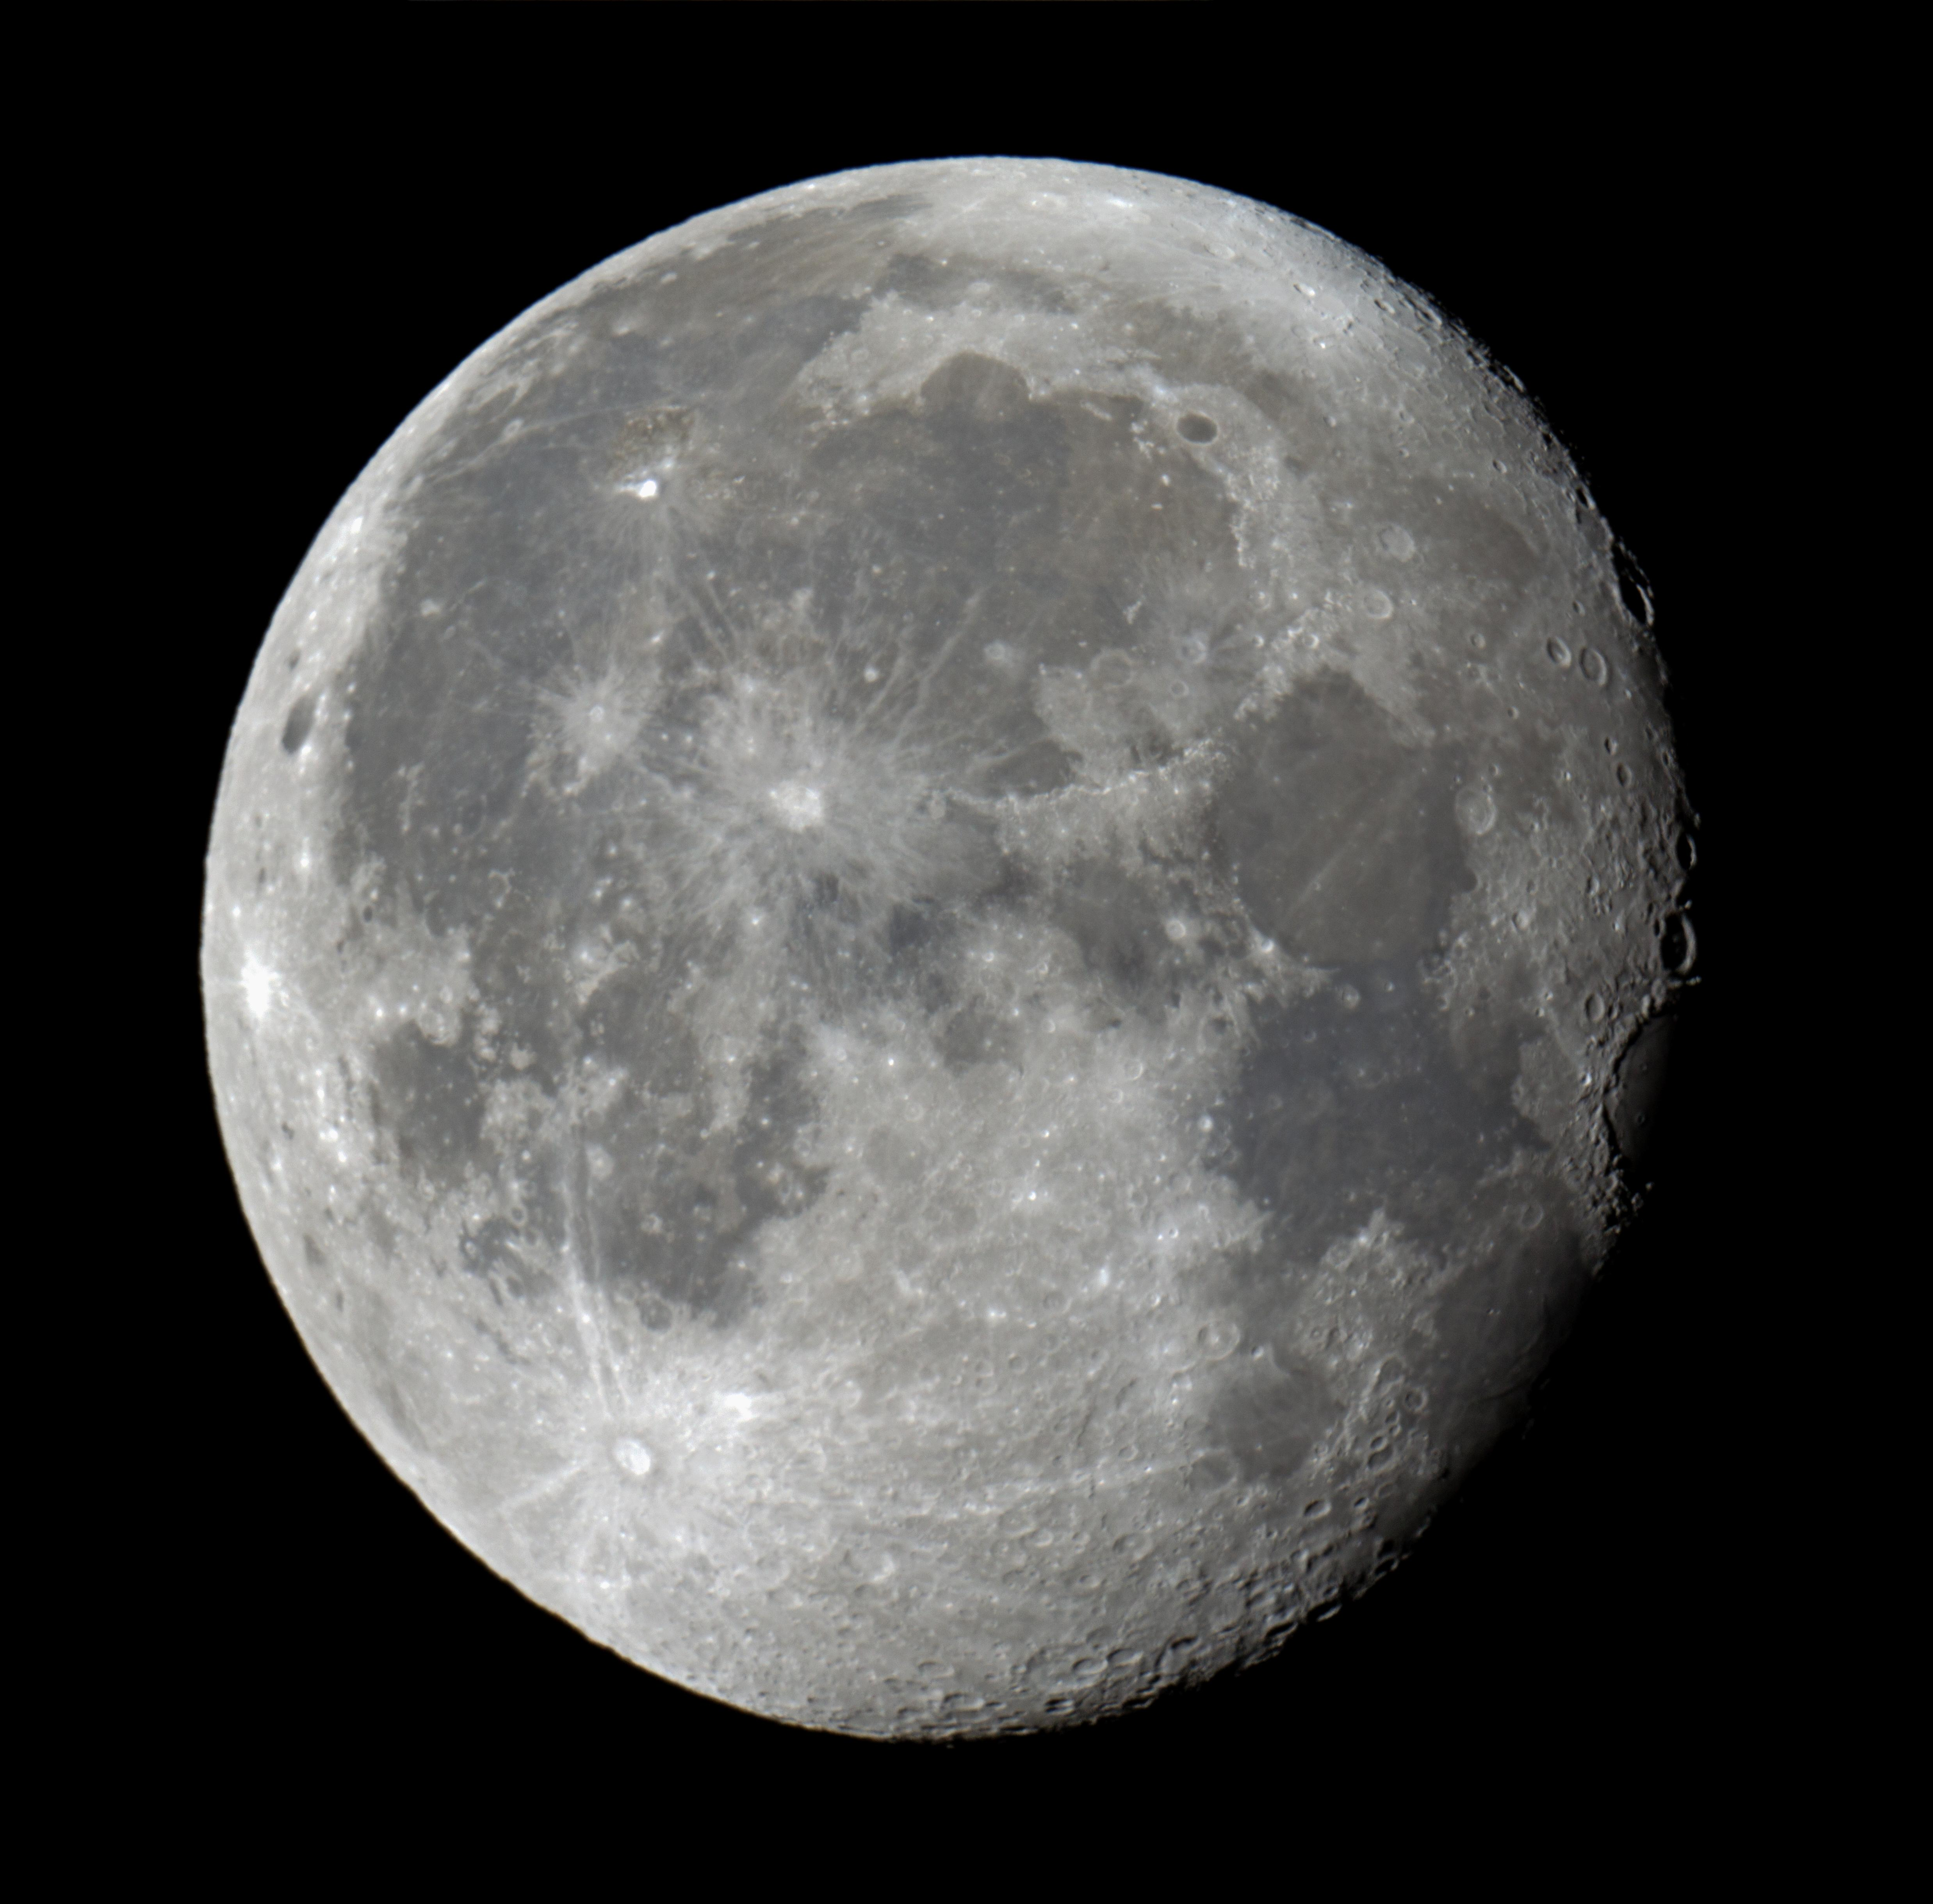crater: (563, 1383, 701, 1513), (732, 760, 868, 863), (1142, 391, 1234, 460), (621, 464, 690, 535), (1438, 778, 1511, 846), (1523, 622, 1581, 696), (1185, 1306, 1246, 1374), (1077, 643, 1147, 699), (1574, 619, 1612, 711), (845, 650, 903, 701), (1103, 1529, 1166, 1574), (1006, 187, 1077, 223), (1182, 232, 1245, 272), (973, 633, 1027, 673), (1170, 631, 1217, 670), (1250, 928, 1299, 962), (952, 274, 1006, 303), (1035, 1283, 1077, 1318), (1159, 1630, 1208, 1658), (1161, 675, 1201, 708), (1065, 1653, 1112, 1679), (1119, 1179, 1152, 1215), (1245, 1336, 1269, 1369), (957, 305, 992, 326), (1058, 1067, 1082, 1091), (1011, 307, 1032, 328), (1260, 1191, 1276, 1208)
